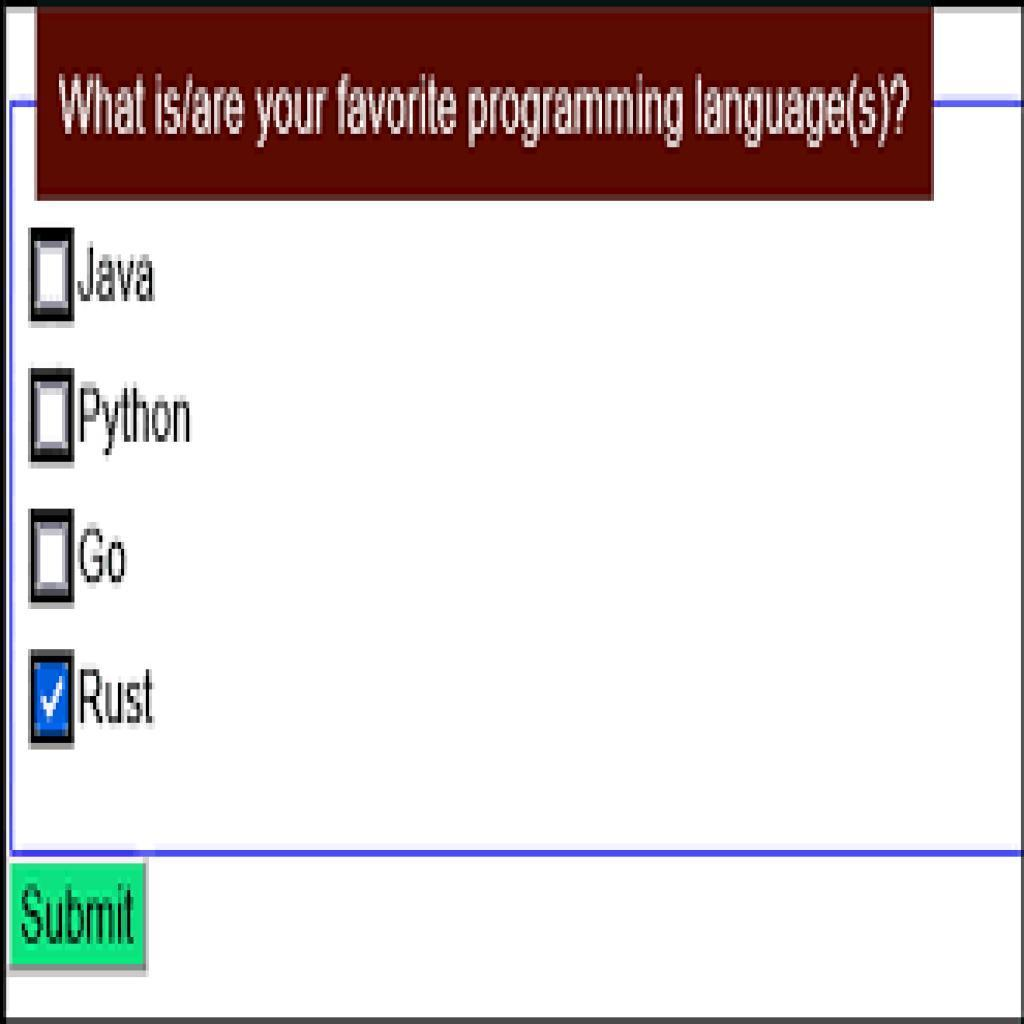checkbox: (29, 368, 76, 468), (29, 509, 77, 606), (30, 652, 77, 750), (30, 229, 76, 322)
label: (78, 378, 196, 456), (80, 242, 159, 309), (78, 521, 128, 589)
